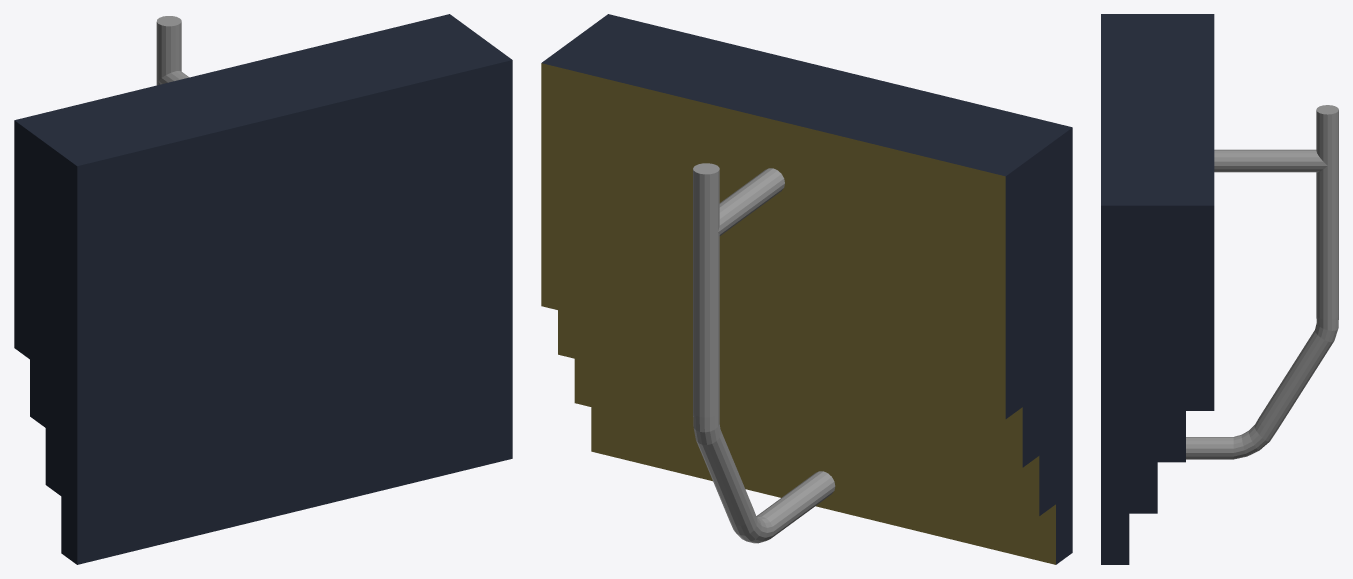
File: Stairs W Center Railing.fbx
3 renders of one model, left to right at view 1: azimuth 30°, elevation 25°; view 2: azimuth 150°, elevation 25°; view 3: azimuth 270°, elevation 25°, orthographic. The views are drawn at different scales.
Parts seen in each view (by area): view 1: Stairs W Center Railing; view 2: Stairs W Center Railing; view 3: Stairs W Center Railing.
Part boxes in pixels (left/top/right/bottom): Stairs W Center Railing: left=14, top=14, right=512, bottom=564; Stairs W Center Railing: left=541, top=14, right=1072, bottom=564; Stairs W Center Railing: left=1101, top=14, right=1338, bottom=564.
Size of the model in its own units: 800 by 700 by 420.
